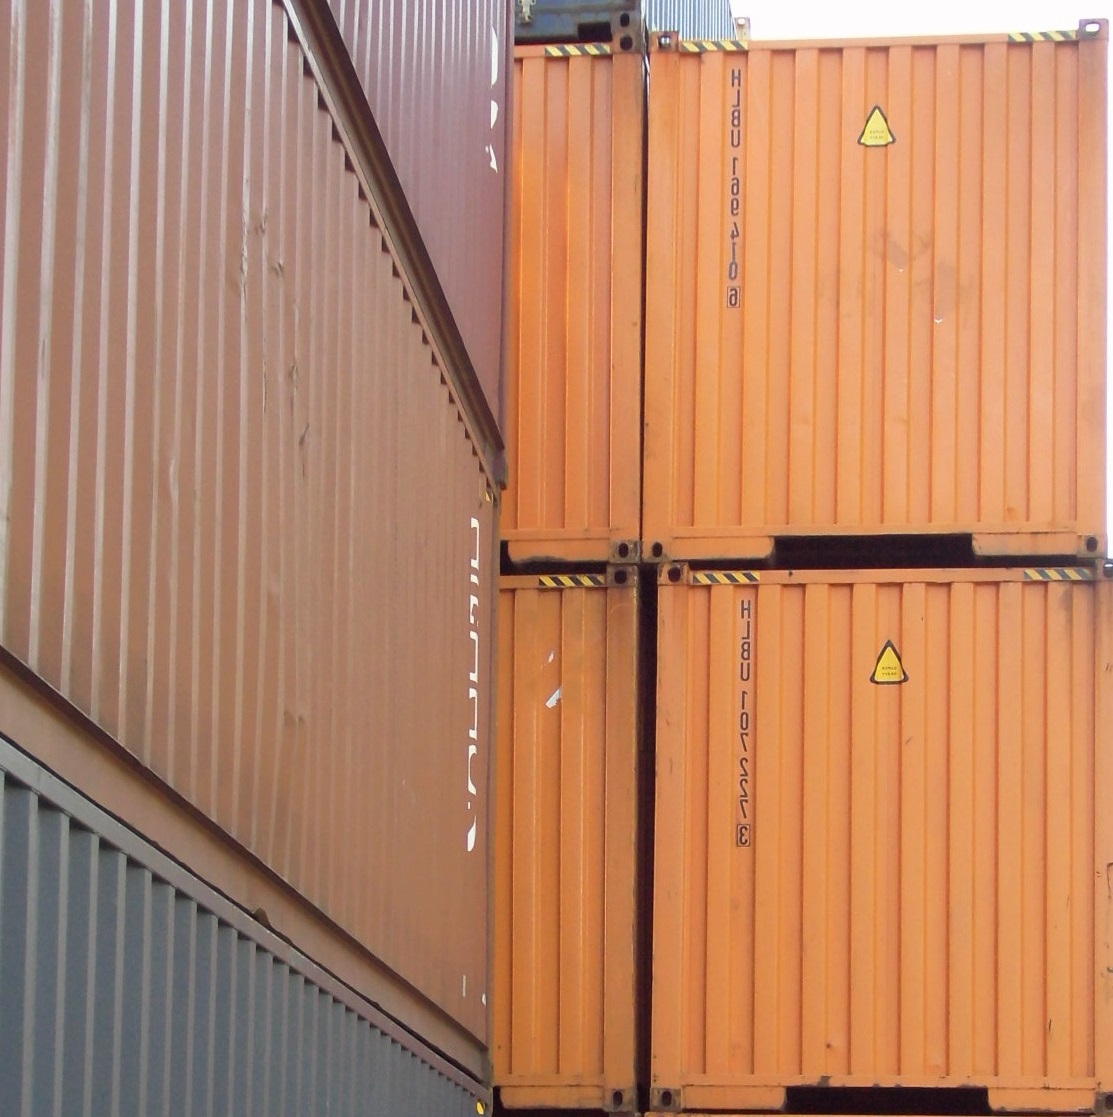container_no_door: (652, 569, 1113, 1111), (647, 22, 1108, 564)
